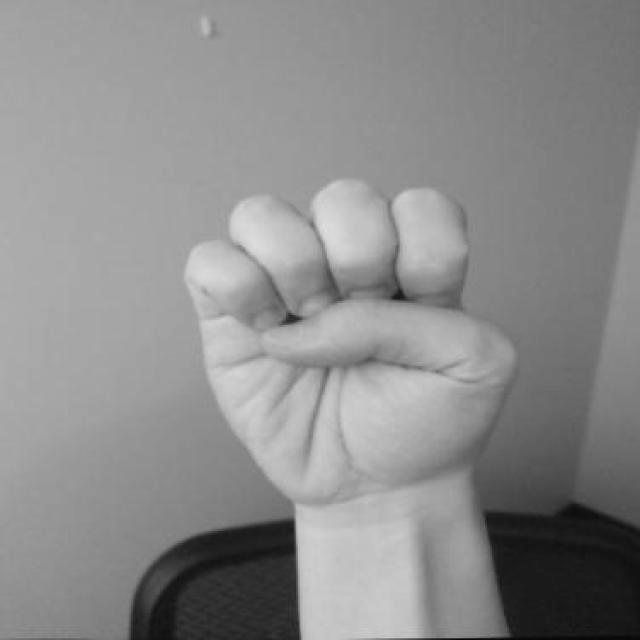E: (164, 169, 530, 516)
